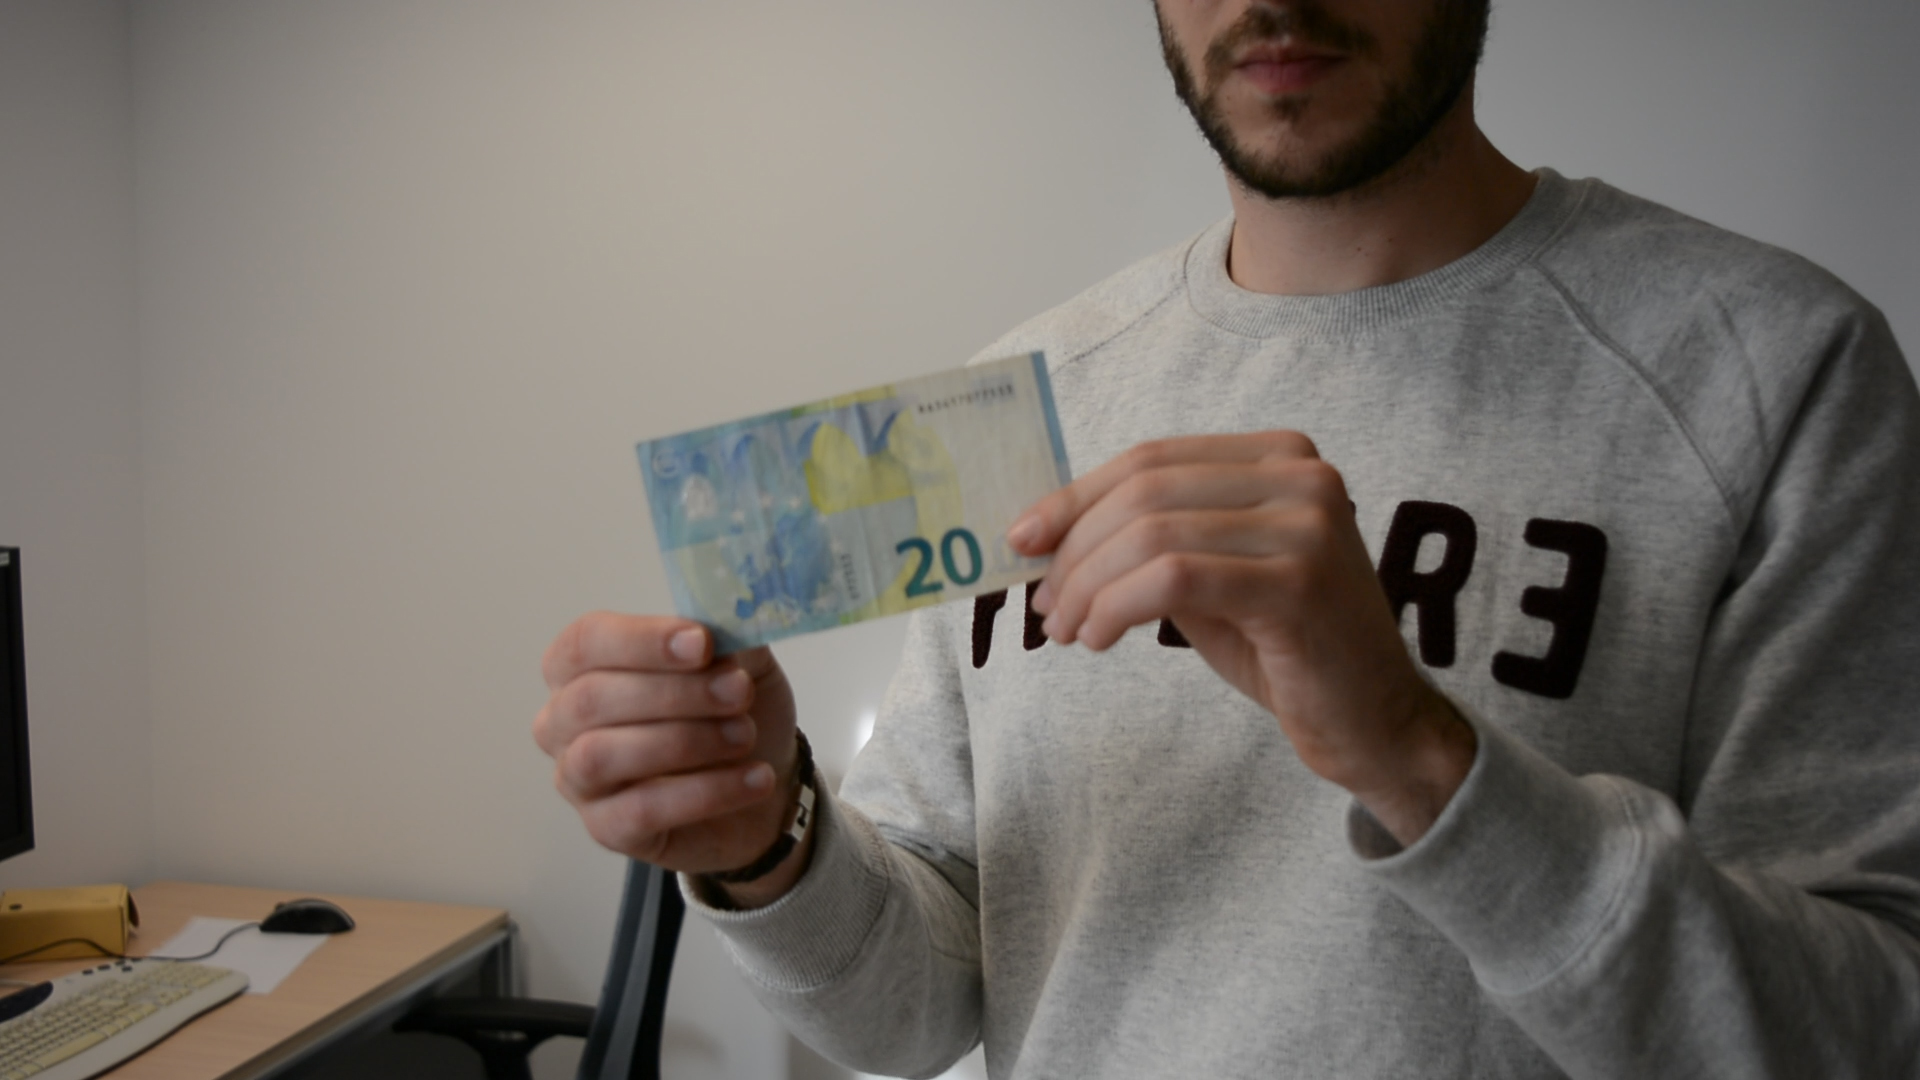billete: (632, 345, 1079, 659)
